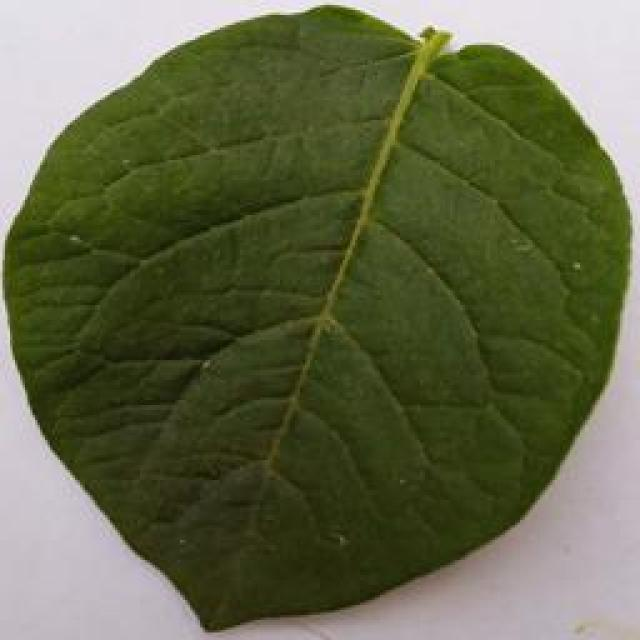Potato_Healthy: (6, 8, 622, 630)
